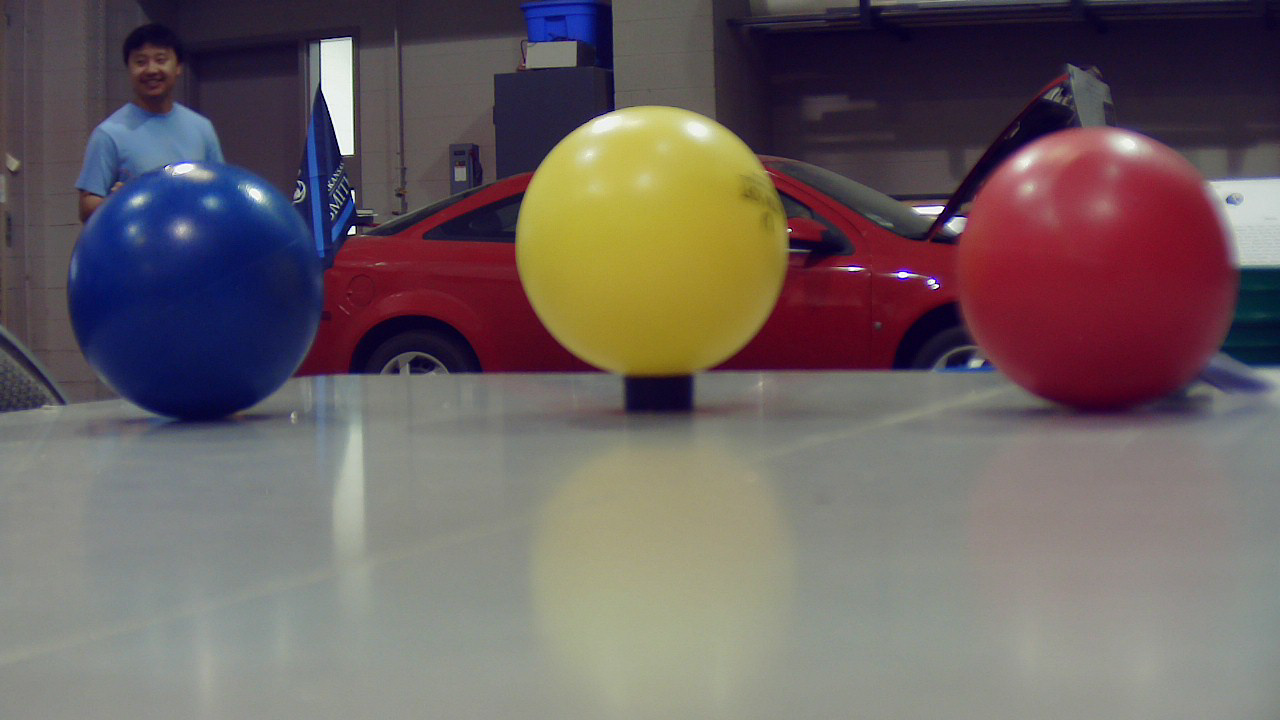blueBall: (69, 161, 331, 429)
redBall: (958, 129, 1242, 423)
yellowBall: (517, 106, 796, 383)
